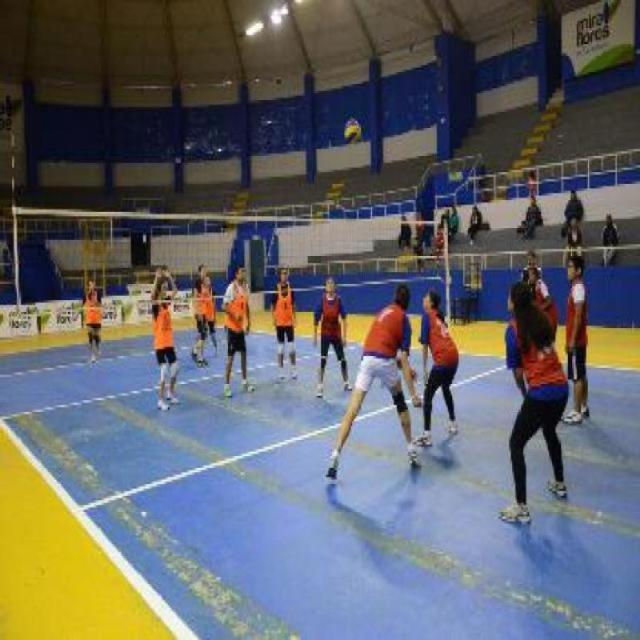volleyball: (342, 114, 360, 142)
